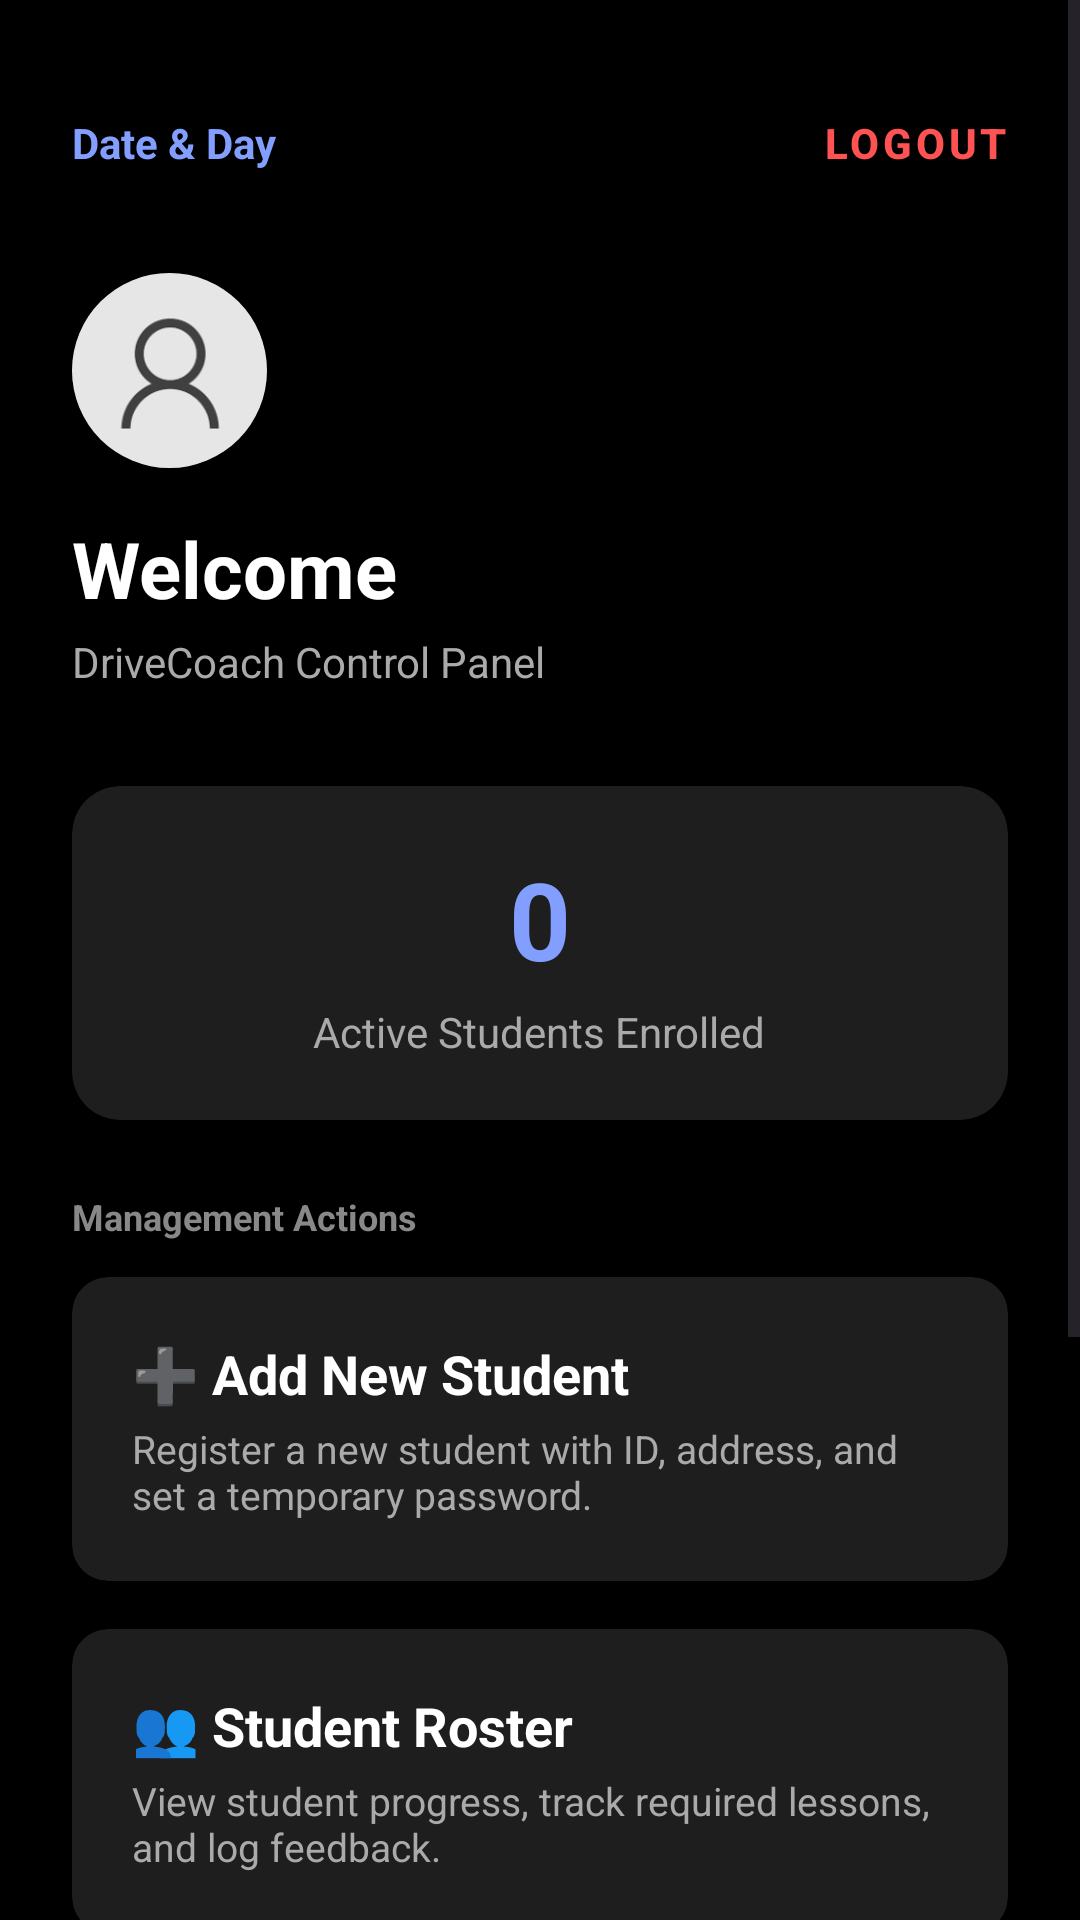

Icons on this 1080×1920 Android screen, each with its box as (x1, y1, x2, y2):
profile: (72, 273, 267, 468)
